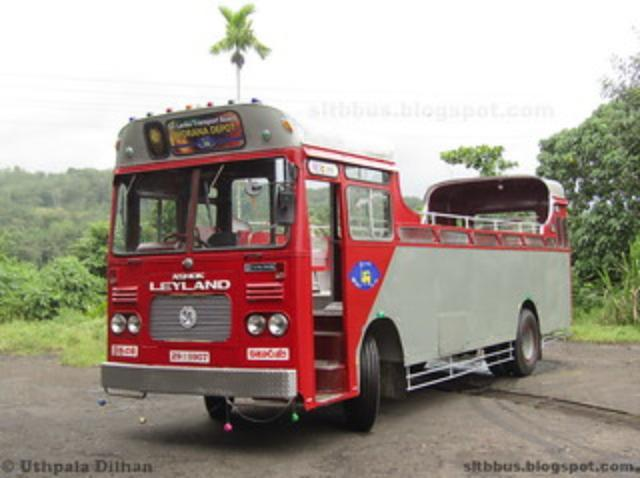bus: (100, 100, 574, 434)
